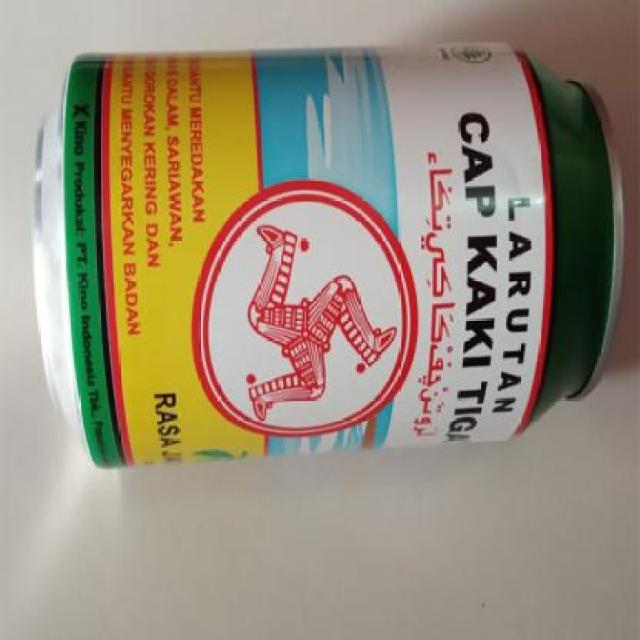Metal: (30, 41, 624, 469)
